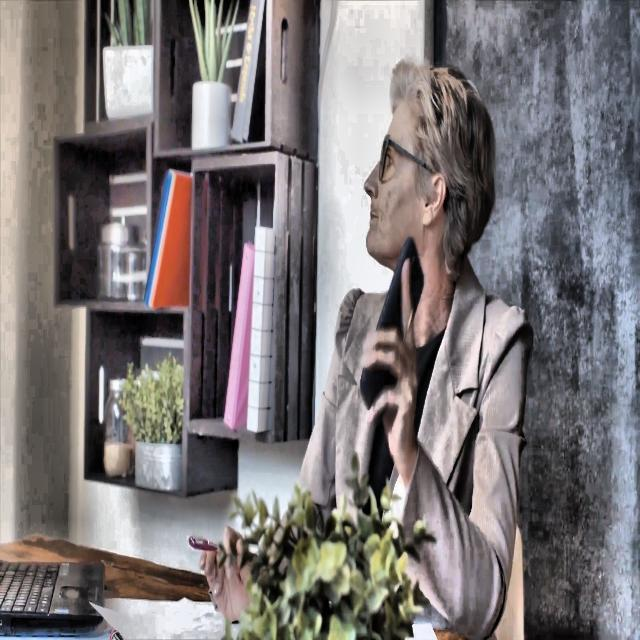Phone: (360, 236, 426, 427)
